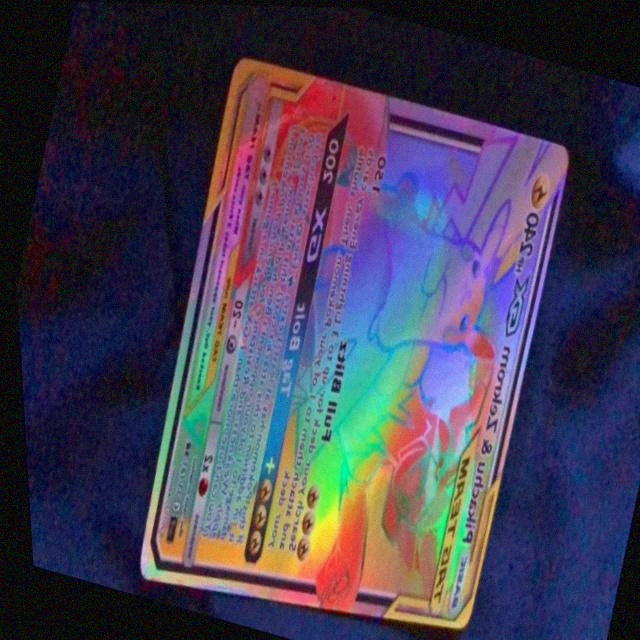card: (130, 48, 568, 634)
